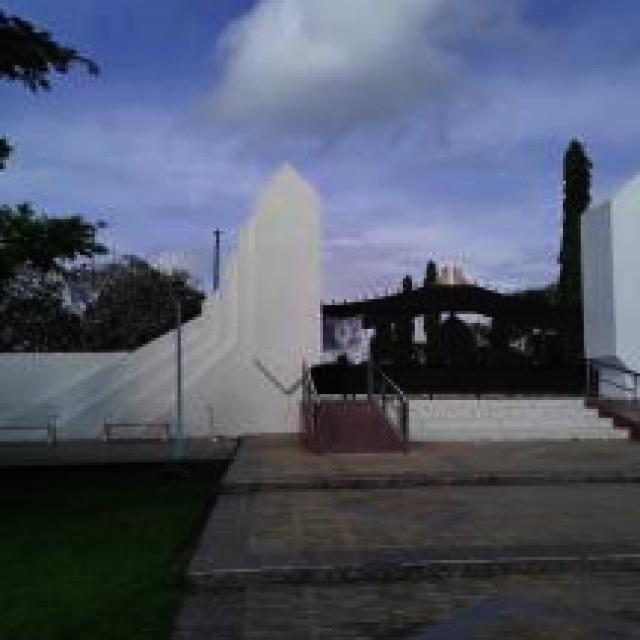upstair: (398, 387, 629, 449)
